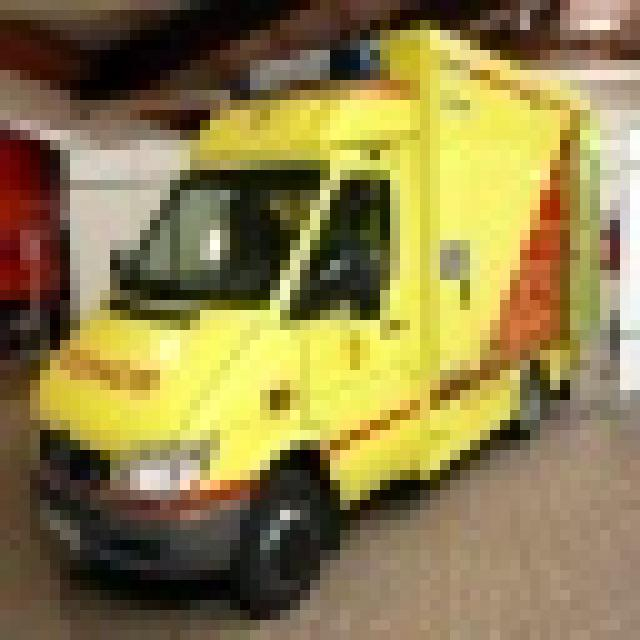Ambulance: (20, 20, 600, 610)
